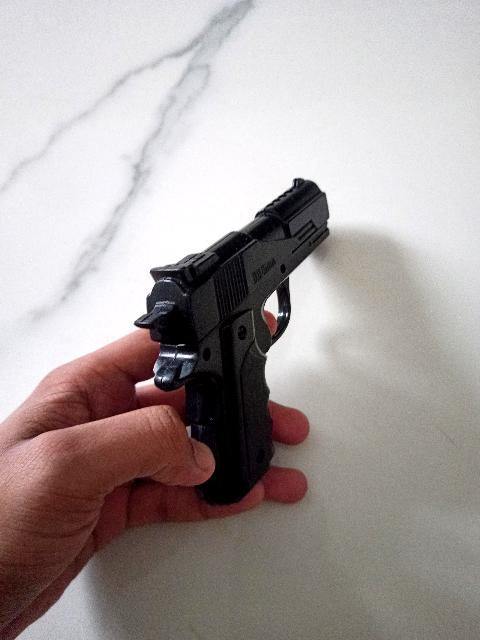pistol: (136, 177, 334, 508)
